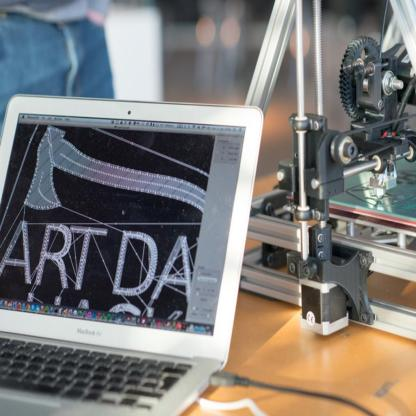board: (0, 96, 263, 416)
